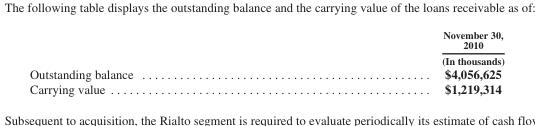table: (28, 28, 503, 95)
table column: (28, 28, 286, 95), (286, 28, 503, 95)
table column header: (28, 28, 503, 66)
table row: (28, 28, 503, 66), (28, 80, 503, 95), (28, 66, 503, 80)
